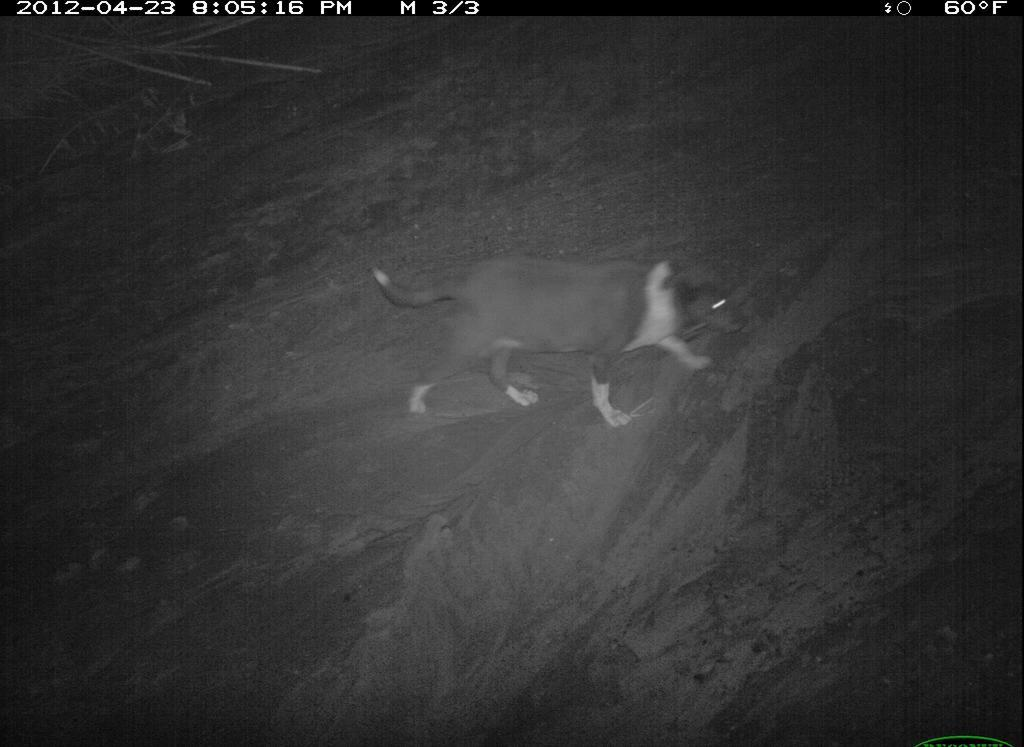dog: (732, 497, 1024, 747)
